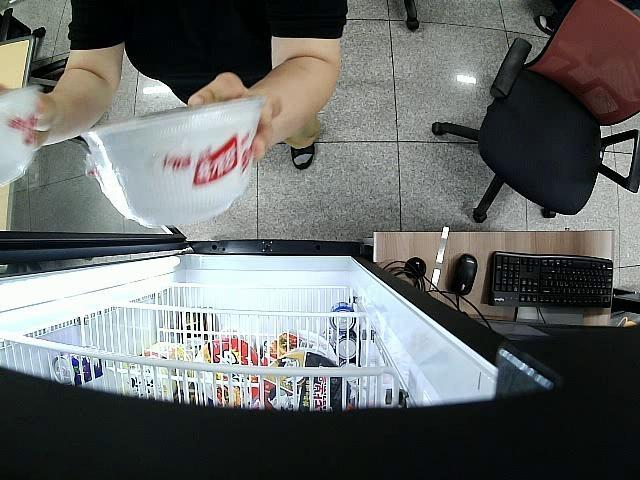09_yukGaeJang: (77, 96, 266, 230), (0, 84, 46, 186)
